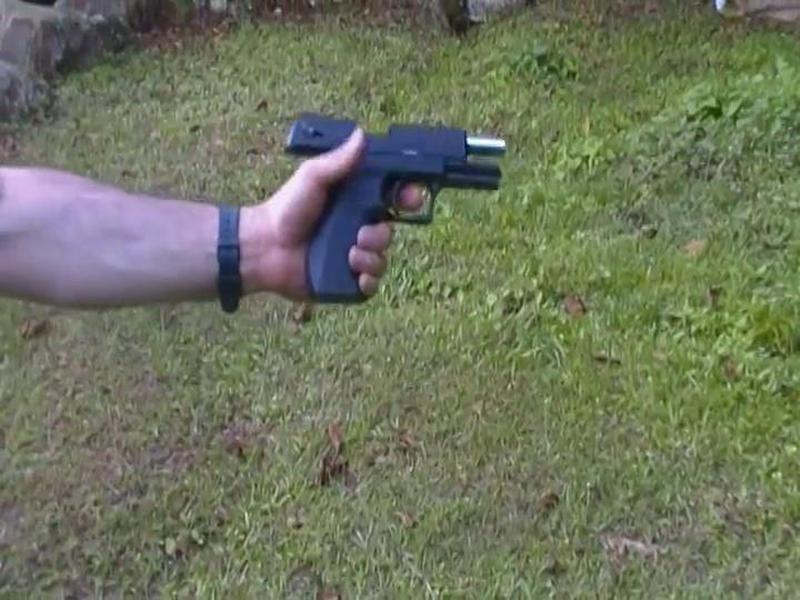Pistola: (265, 111, 527, 305)
